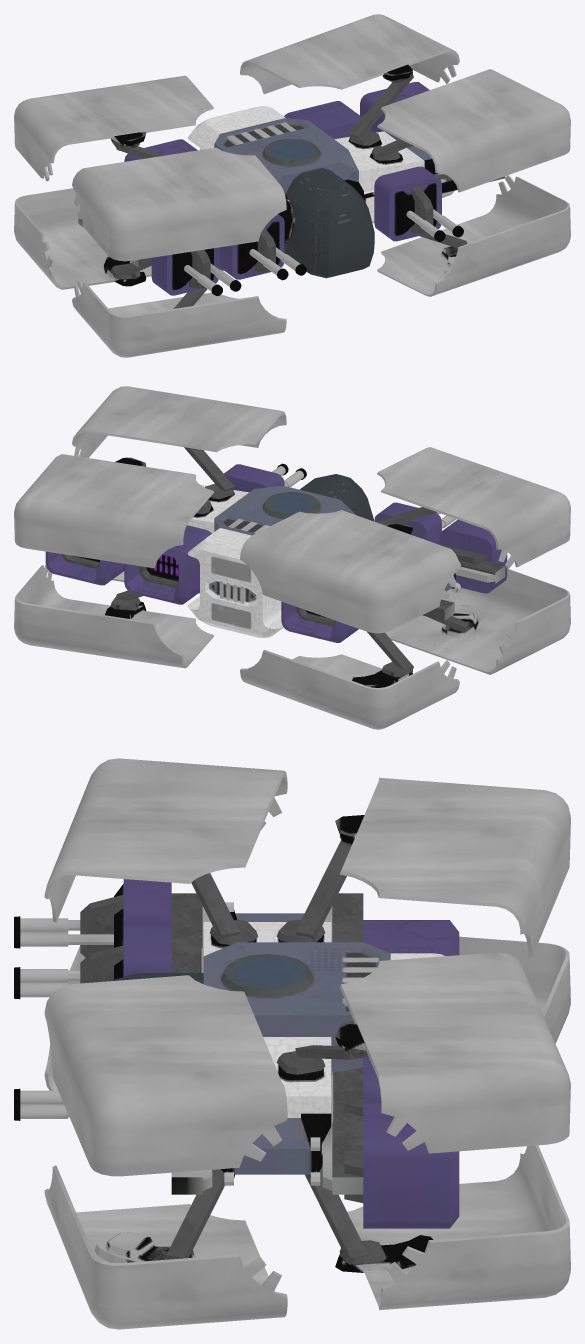
File: dalton.gltf
3 renders of one model, top to bottom at view 1: azimuth 30°, elevation 25°; view 2: azimuth 150°, elevation 25°; view 3: azimuth 270°, elevation 25°, orthographic. The views are drawn at different scales.
Parts seen in each view (by area): view 1: Base; view 2: Base; view 3: Base.
Part boxes in pixels (x1,y1,x2,y2): Base: [14, 14, 570, 357]; Base: [14, 386, 570, 729]; Base: [14, 758, 570, 1329].
Bounding box in the file's own units: 8.76 × 2.7 × 5.8.
Materials: 1 (1 with a texture image).
